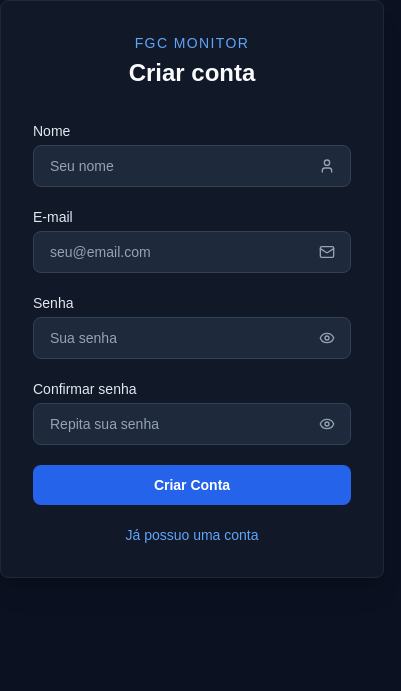
it: REgister › mostra as validações quando enviado dados errados no formulário
The width and height of the screenshot is (401, 691).
In the field labelled "E-mail": (192, 252) [33,231,351,273], type "wrongMail"
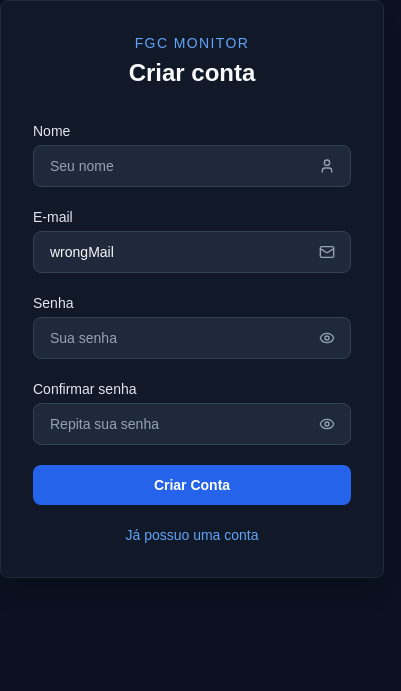
In the password field labelled "Senha": (192, 338) [33,317,351,359], type "wrongPassword"
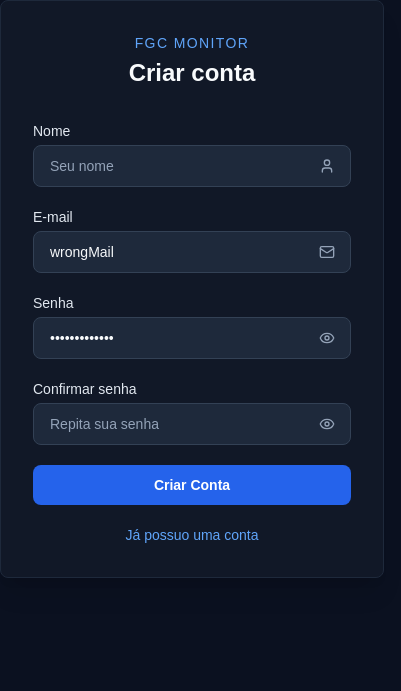
Click the button "Criar Conta": click(192, 485) [33,465,351,505]
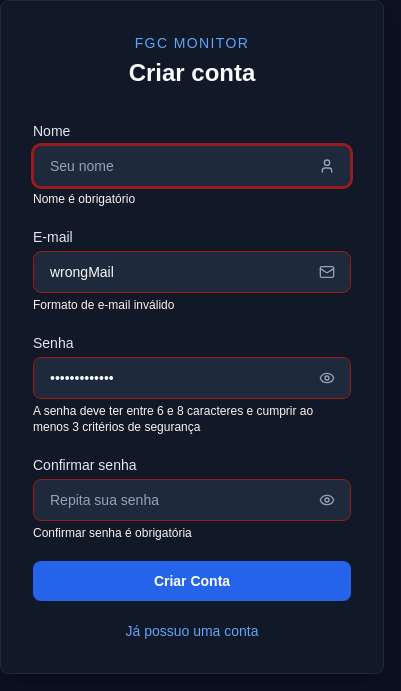
Now the text "Formato de e-mail inválido" is shown, box [33,298,174,312]
Now the text "A senha deve ter entre 6 e 8 caracteres e cumprir ao menos 3 critérios de segurança" is shown, box [33,404,313,434]
